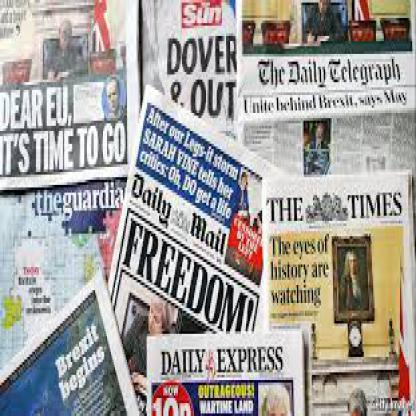paper: (0, 0, 415, 414), (107, 79, 276, 414), (259, 167, 412, 401), (236, 0, 415, 170), (0, 0, 139, 190), (0, 177, 135, 347), (0, 262, 139, 413), (140, 0, 236, 159), (143, 326, 312, 414), (310, 372, 415, 414)
